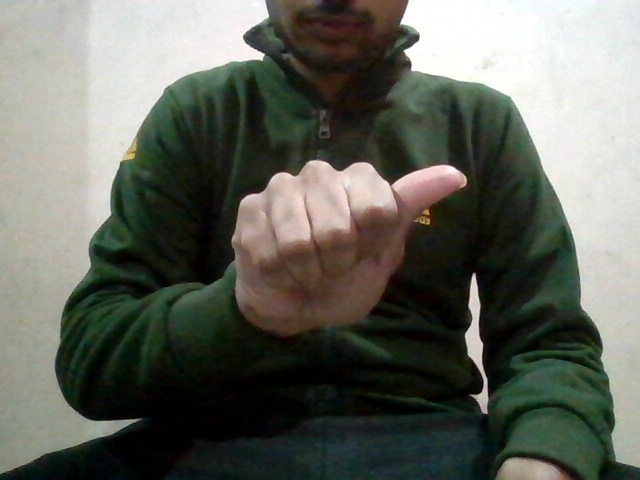A: (225, 154, 471, 340)
